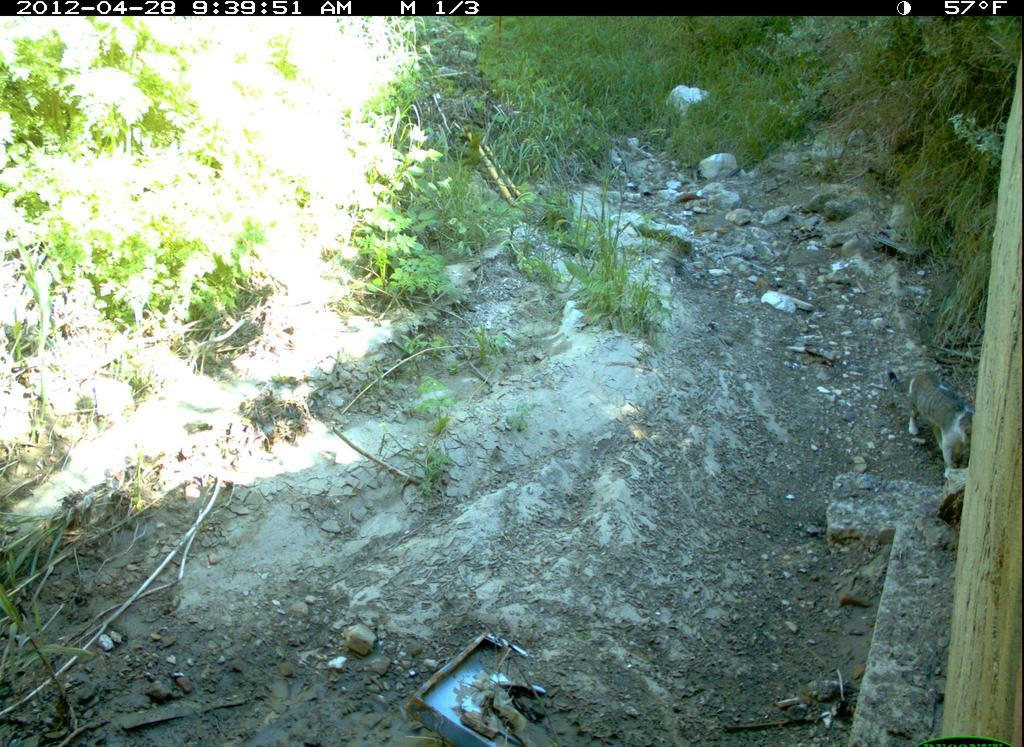cat: (885, 367, 977, 478)
